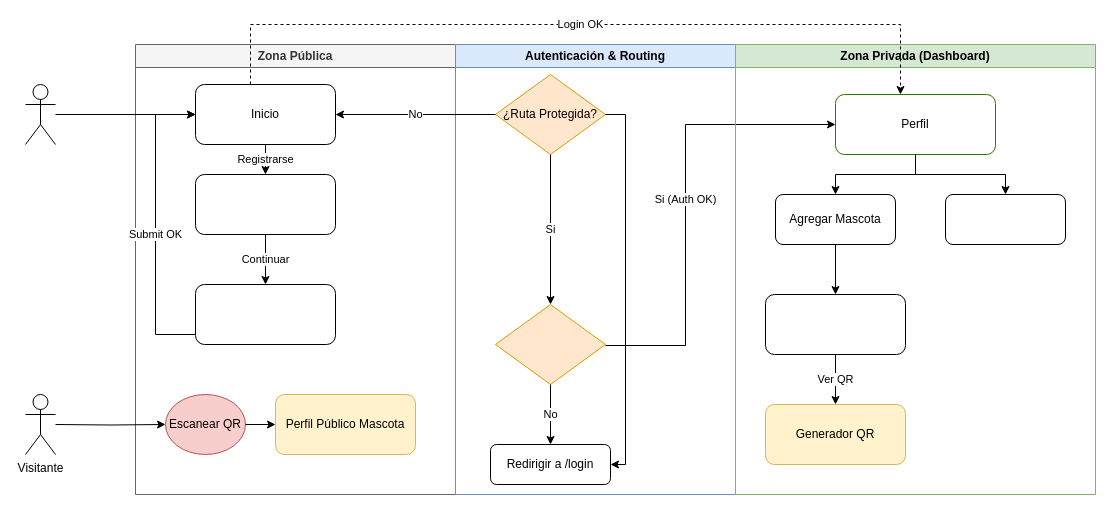
This 1113x512 diagram has some shape labels left out. Here are the shapes that lost their labels. From the top down, the centre of each, then its label:
At (40,114): "Usuario".
At (265,204): "Registro de nombre y correo electronico".
At (1005,219): "Chatbot".
At (265,314): "Registro Contraseña".
At (835,324): "Detalle/Editar Mascota".
At (550,344): "¿Tiene Token?".
